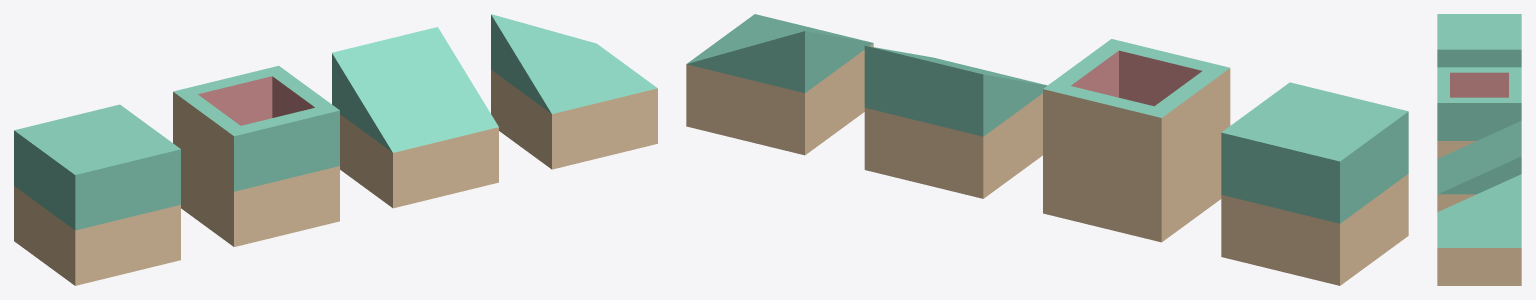
File: tiles.glb
3 views of the same model, side by side, from view 1: azimuth 30°, elevation 25°; view 2: azimuth 150°, elevation 25°; view 3: azimuth 270°, elevation 25° (orthographic). The views are drawn at different scales.
Visible parts, largest first — view 1: Cube-col, Cube-hole-col, Cube2-col, Cube3-col; view 2: Cube-col, Cube-hole-col, Cube2-col, Cube3-col; view 3: Cube3-col, Cube-hole-col, Cube-col, Cube2-col.
Part boxes in pixels (bbox=[...]): Cube-col: bbox=[14, 104, 180, 285]; Cube-hole-col: bbox=[173, 65, 339, 246]; Cube2-col: bbox=[332, 27, 498, 208]; Cube3-col: bbox=[491, 14, 657, 169]; Cube-col: bbox=[1221, 82, 1408, 285]; Cube-hole-col: bbox=[1043, 39, 1230, 242]; Cube2-col: bbox=[864, 45, 1047, 198]; Cube3-col: bbox=[686, 14, 873, 155]; Cube3-col: bbox=[1437, 174, 1521, 285]; Cube-hole-col: bbox=[1437, 67, 1521, 158]; Cube-col: bbox=[1437, 14, 1521, 67]; Cube2-col: bbox=[1437, 121, 1521, 211].
Bounding box in the file's own units: 11 × 2 × 2.
Materials: 1 (1 with a texture image).
